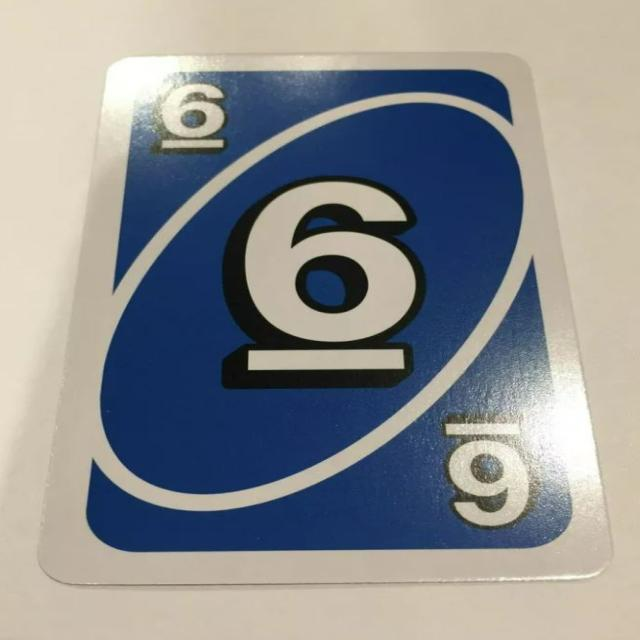Blue_Card: (86, 66, 582, 560)
Number_6: (145, 76, 238, 164)
